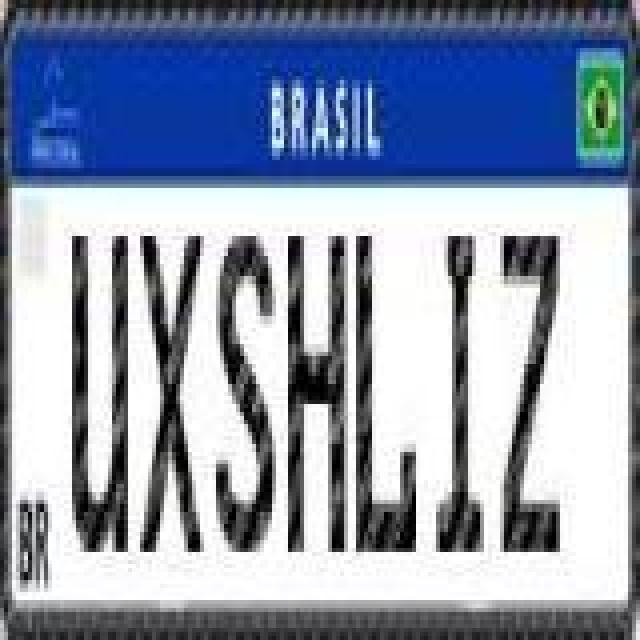H: (284, 230, 348, 554)
I: (434, 230, 486, 554)
L: (352, 230, 416, 554)
S: (214, 230, 282, 554)
U: (70, 230, 130, 554)
X: (138, 224, 206, 560)
Z: (498, 230, 558, 554)
